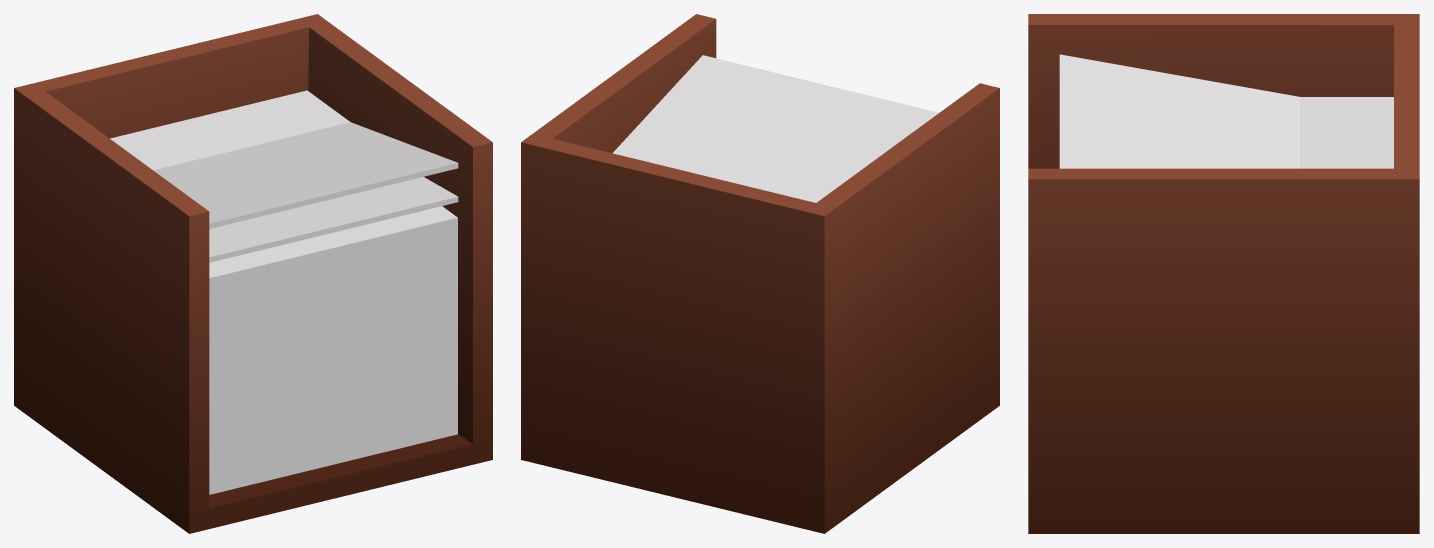
The model's file is note_papers.fbx.
3 views of the same model, side by side, from view 1: azimuth 30°, elevation 25°; view 2: azimuth 150°, elevation 25°; view 3: azimuth 270°, elevation 25° (orthographic). The views are drawn at different scales.
Visible parts, largest first — view 1: kartlık; view 2: kartlık; view 3: kartlık.
Part boxes in pixels (x1=…): kartlık: x1=14, y1=14, x2=492, y2=533; kartlık: x1=521, y1=14, x2=999, y2=533; kartlık: x1=1028, y1=14, x2=1419, y2=533.
Size of the model in its own units: 39.21 by 39.21 by 39.21.
